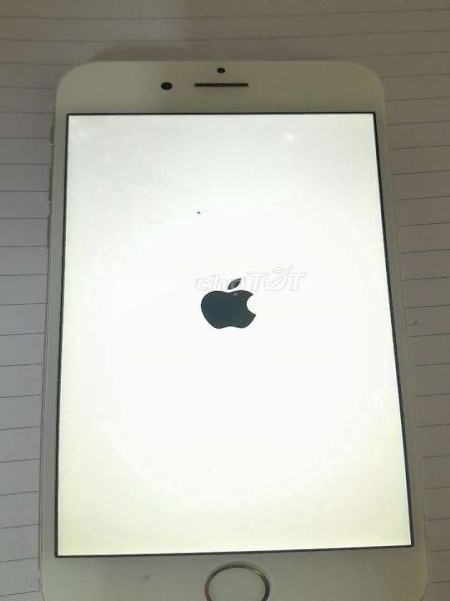scratch: (120, 557, 164, 589)
screen_defect: (191, 206, 207, 221)
